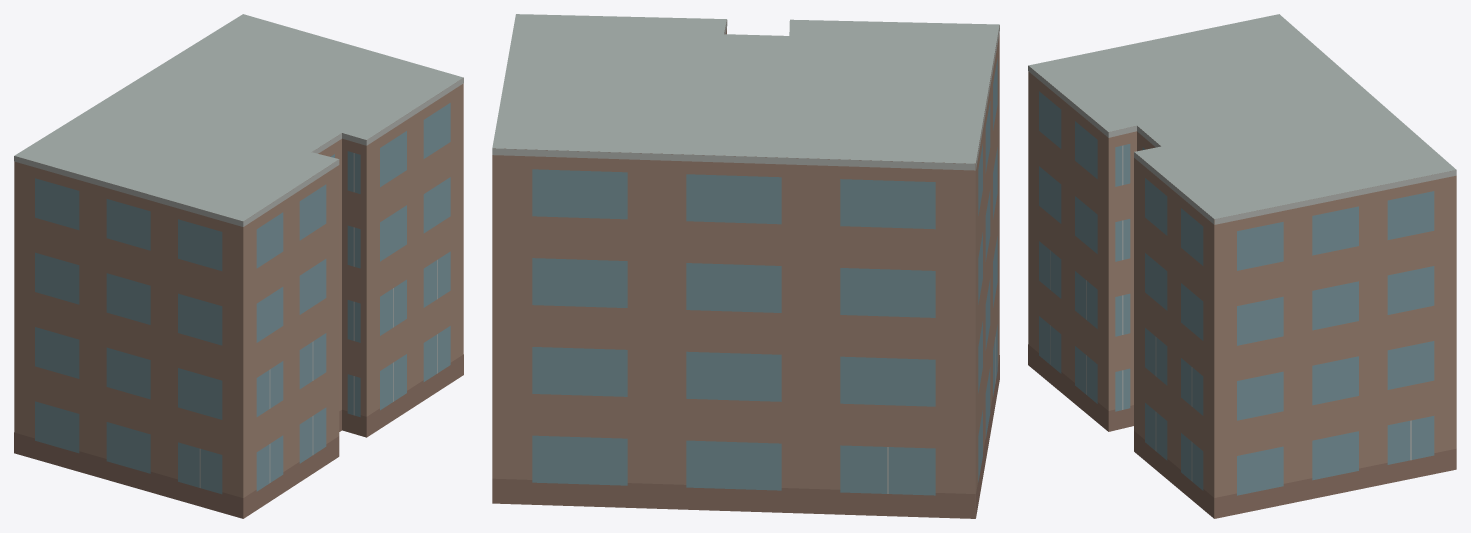
The model's file is survey-upis-32741814.glb.
3 views of the same model, side by side, from view 1: azimuth 30°, elevation 25°; view 2: azimuth 150°, elevation 25°; view 3: azimuth 270°, elevation 25° (orthographic). The views are drawn at different scales.
Parts seen in each view (by area): view 1: survey-upis-32741814.tmp; view 2: survey-upis-32741814.tmp; view 3: survey-upis-32741814.tmp.
Part boxes in pixels (<box>): survey-upis-32741814.tmp: <box>14,14,463,518</box>; survey-upis-32741814.tmp: <box>492,14,999,518</box>; survey-upis-32741814.tmp: <box>1028,14,1456,518</box>.
Bounding box in the file's own units: 18.81 × 12.8 × 16.6.
